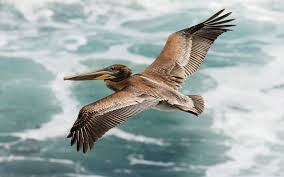pelican: (63, 8, 237, 154)
